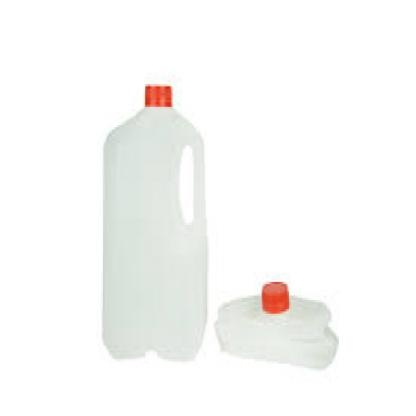trash: (103, 84, 206, 359), (216, 282, 337, 367)
